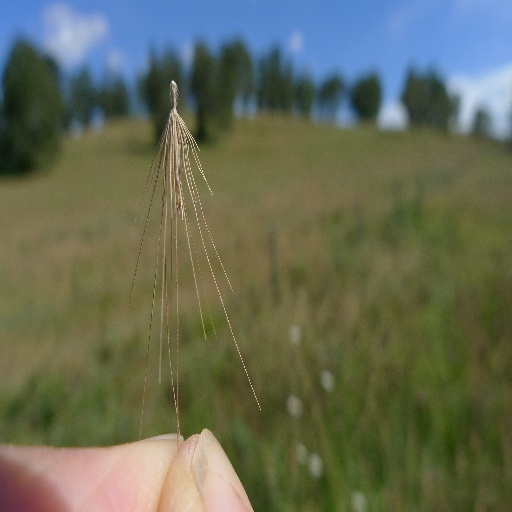hand: (6, 434, 182, 506)
